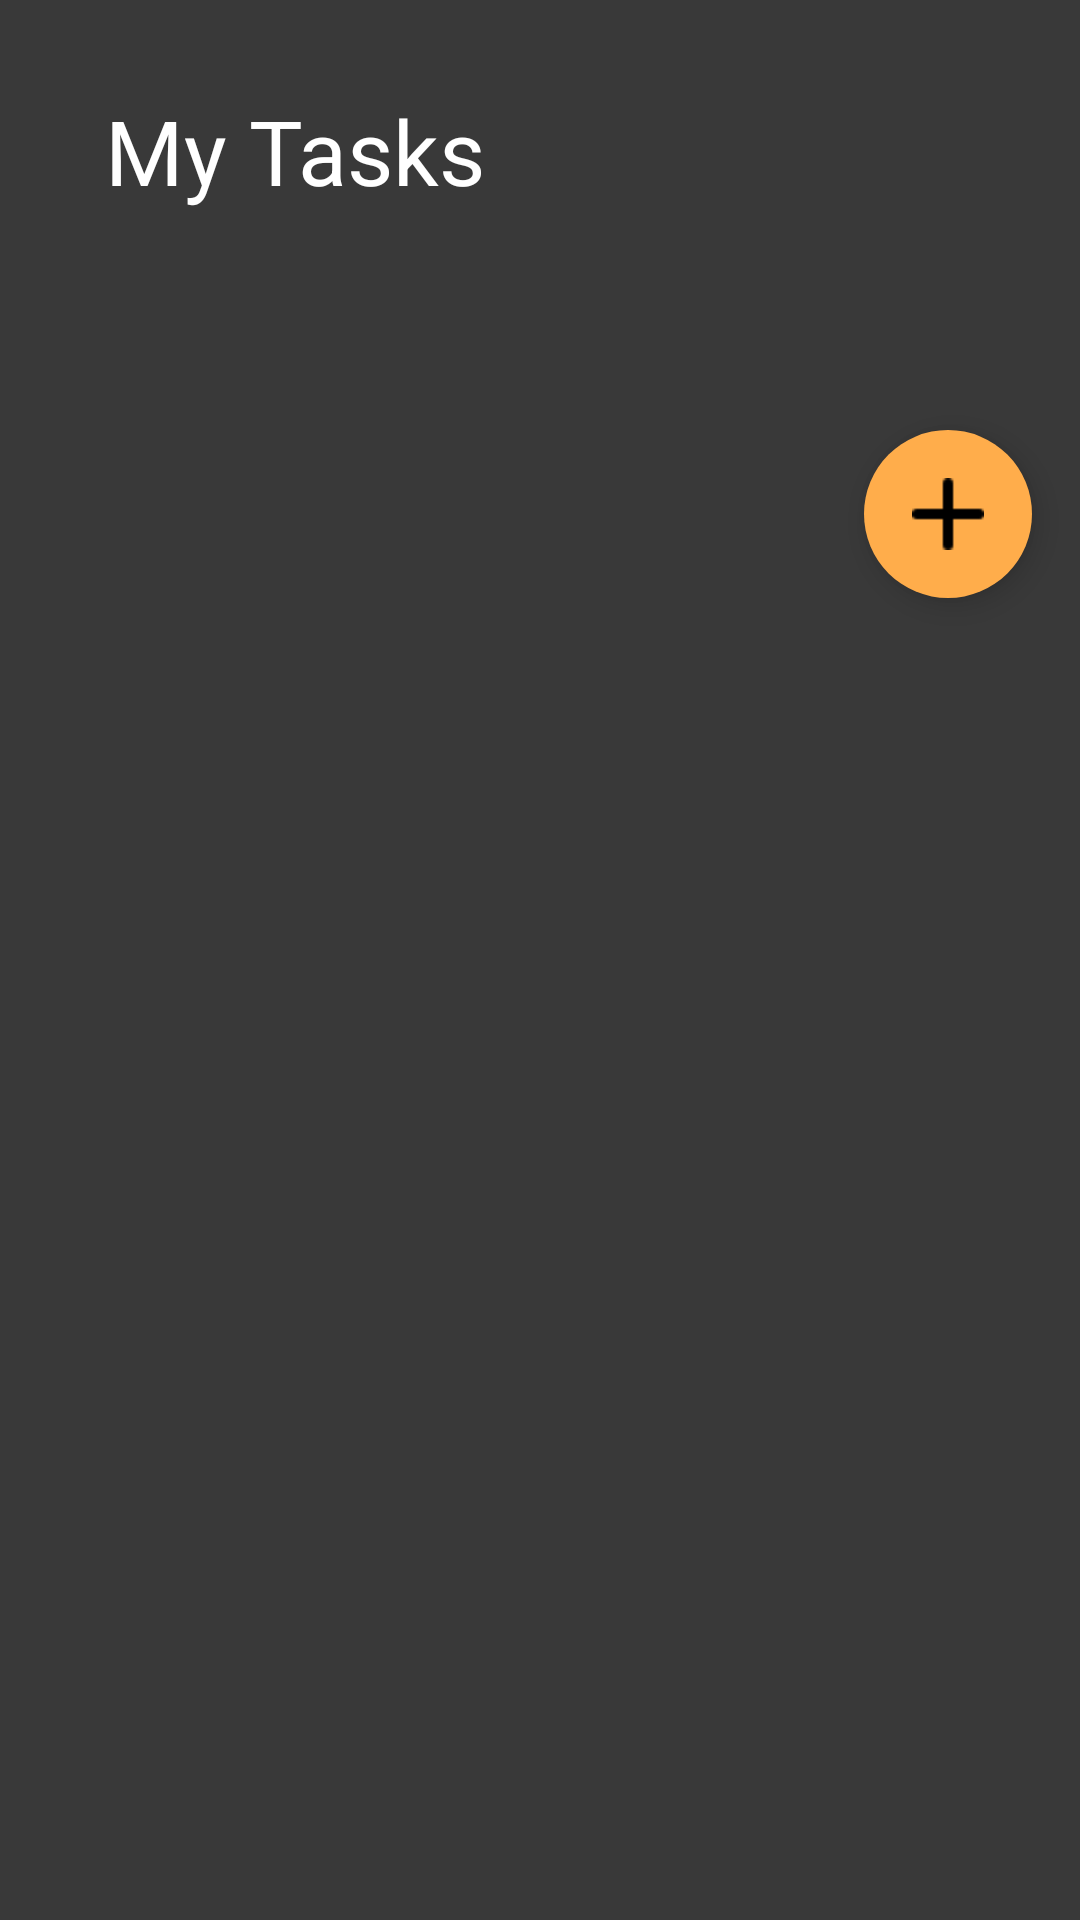

Named icons in this screenshot (1080px×1920px) and their centers, point (x, y):
add: point (948, 514)
